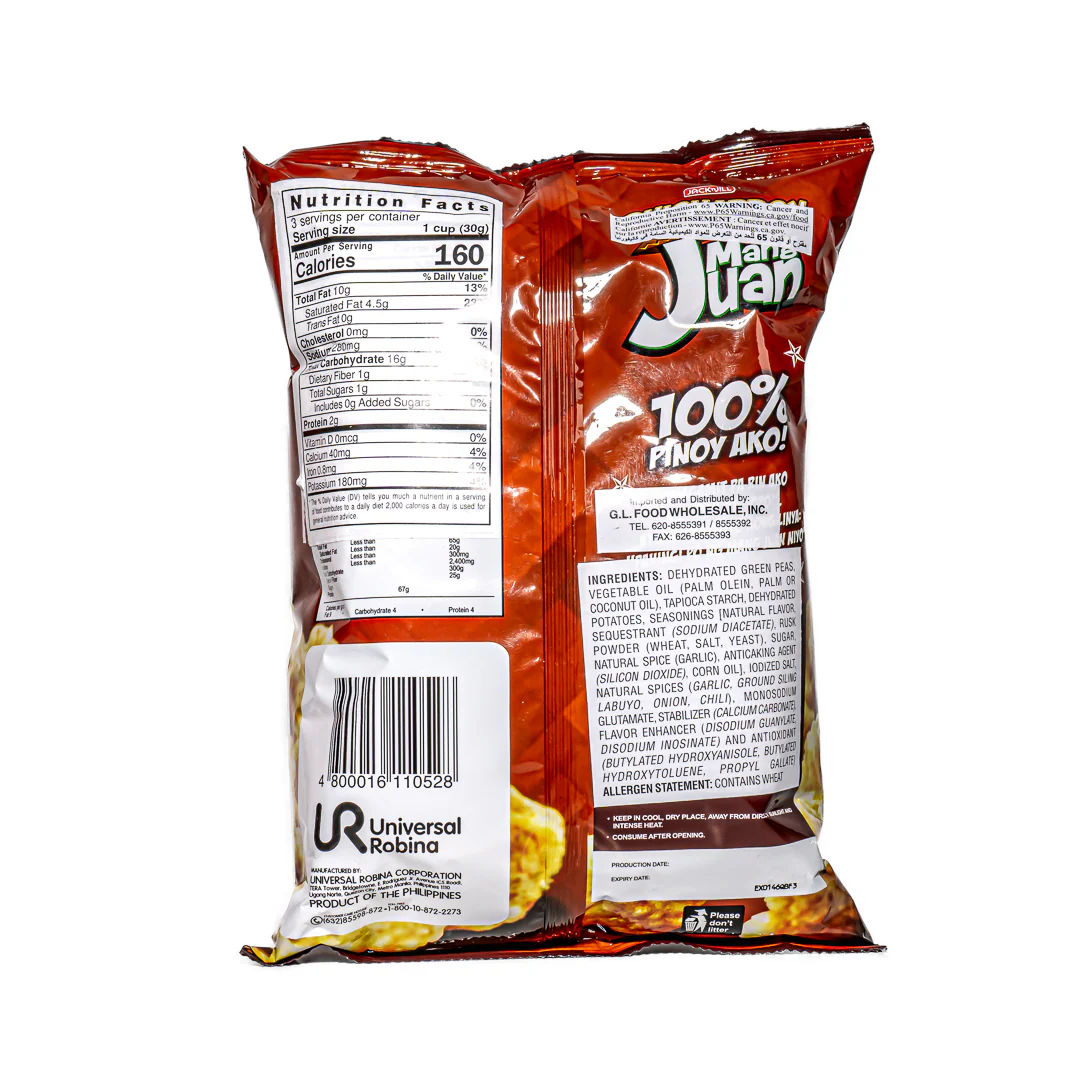non-toxic_waste: (242, 135, 880, 969)
